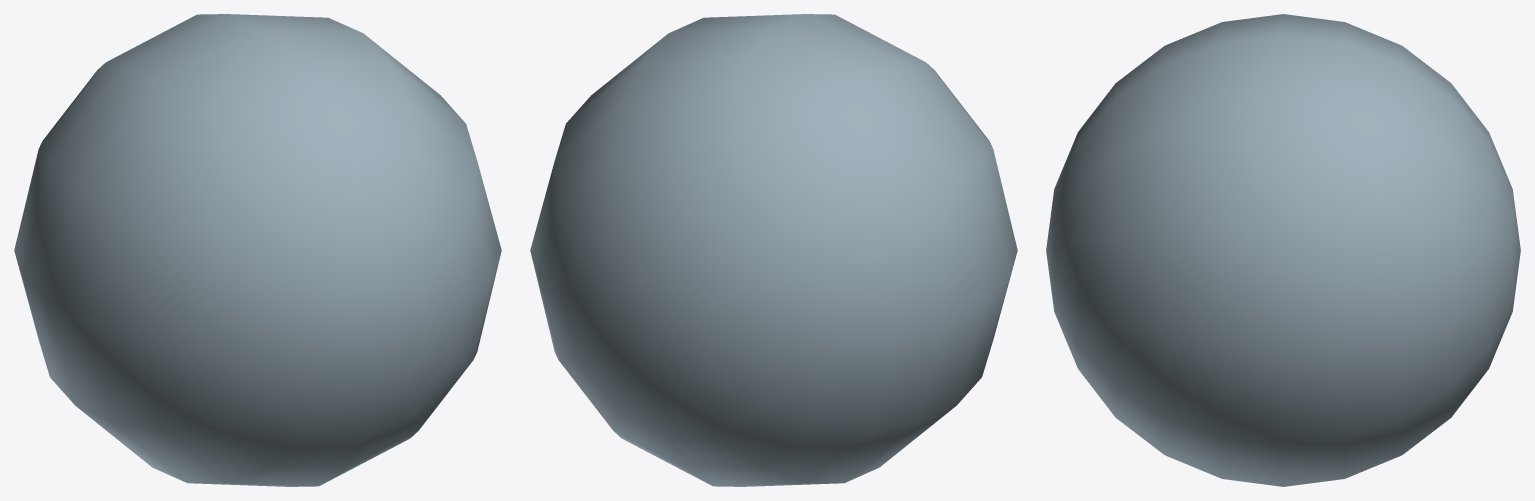
The model's file is negative-ball.fbx.
3 views of the same model, side by side, from view 1: azimuth 30°, elevation 25°; view 2: azimuth 150°, elevation 25°; view 3: azimuth 270°, elevation 25° (orthographic). The views are drawn at different scales.
Parts seen in each view (by area): view 1: negative-ball; view 2: negative-ball; view 3: negative-ball.
Boxes of the visible parts, x1,y1,x2,y2 form: negative-ball: (14, 14, 501, 486); negative-ball: (530, 14, 1017, 486); negative-ball: (1046, 14, 1520, 486).
Bounding box in the file's own units: 200 × 200 × 200.
